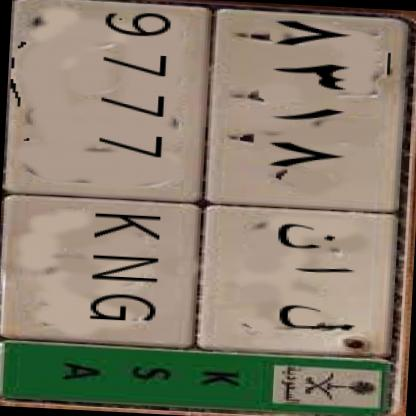english: (0, 0, 214, 352)
